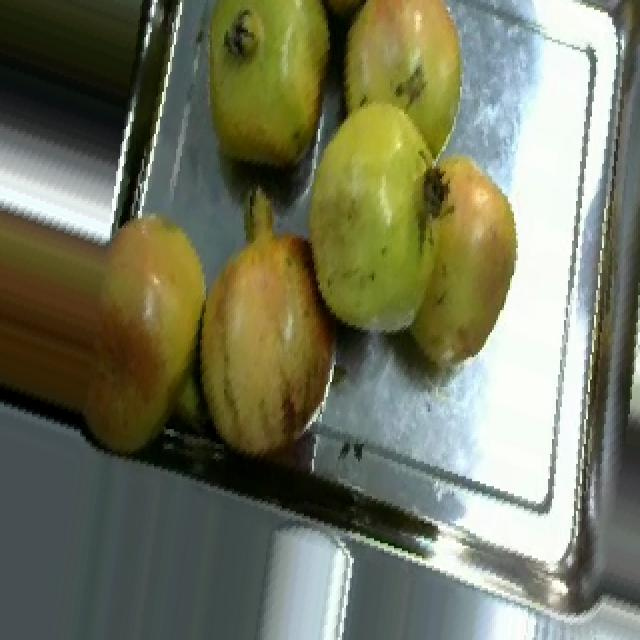fruit: (166, 208, 366, 484)
